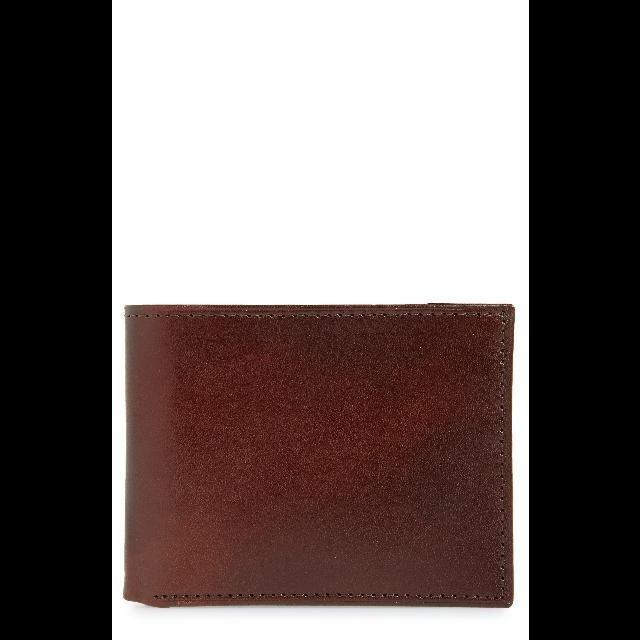Wallet: (118, 299, 516, 615)
